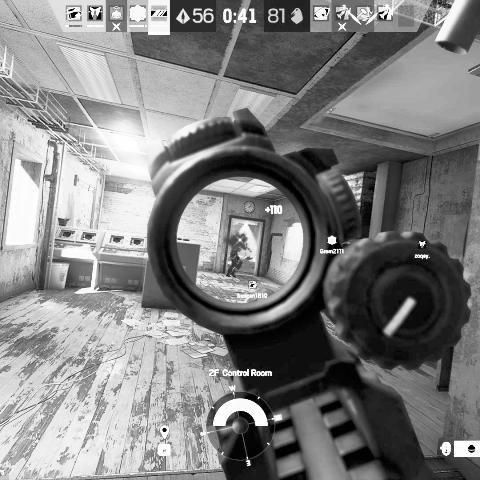Character: (226, 233, 250, 278)
Friend_label: (237, 280, 268, 300), (320, 235, 344, 255), (414, 240, 430, 260)
Head: (240, 234, 246, 242)
